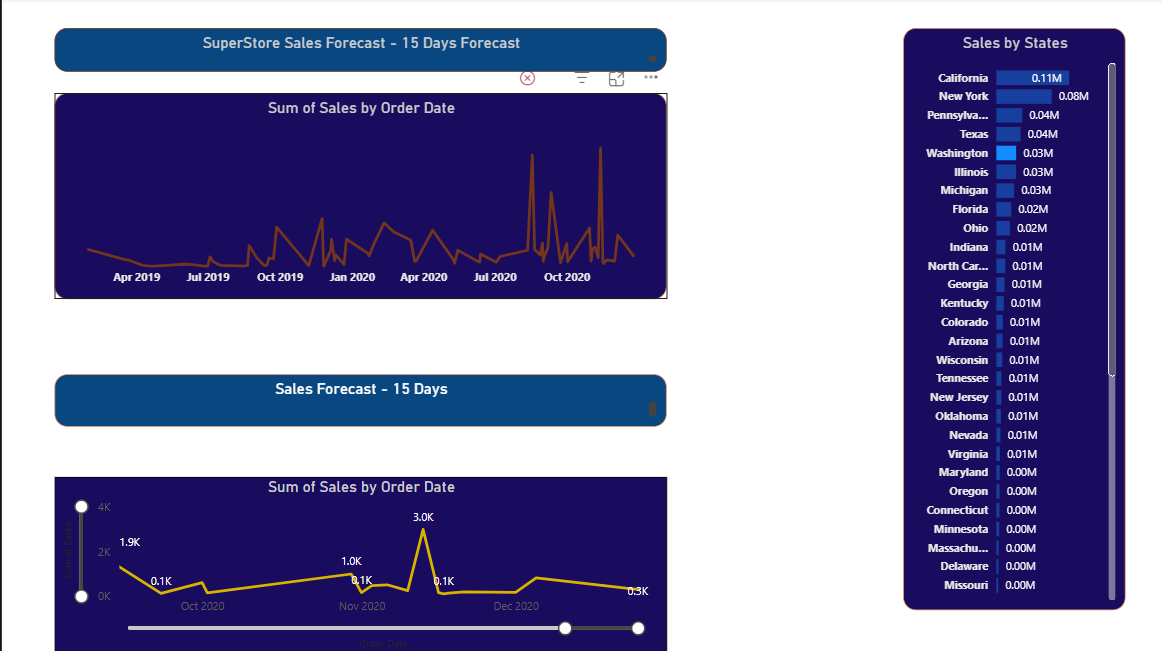

This screenshot's page, from the dashboard's own definition file:
{"tool":"powerbi","page":{"name":"Page 2","canvas":[1280,720],"ordinal":1},"visuals":[{"type":"lineChart","fields":{"Y":["Sum(SuperStore_Sales_Dataset.Sales)"],"Category":["SuperStore_Sales_Dataset.Order Date"]},"box":[57.6,104.3,672.4,226.4],"z":0},{"type":"lineChart","fields":{"Y":["Sum(SuperStore_Sales_Dataset.Sales)"],"Category":["SuperStore_Sales_Dataset.Order Date"]},"box":[57.6,525.6,672.4,194.9],"z":1000},{"type":"clusteredBarChart","title":"Sales by States","fields":{"Y":["Sum(SuperStore_Sales_Dataset.Sales)"],"Category":["SuperStore_Sales_Dataset.State"]},"box":[989.4,32.9,244.3,639.5],"z":2000},{"type":"textbox","title":"SuperStore Sales Forecast - 15 Days Forecast","box":[57.6,32.9,672.4,48],"z":3000},{"type":"textbox","title":"Sales Forecast - 15 Days","box":[57.6,413,672.4,57.6],"z":4000}]}

Visuals, with their boxes in screenshot pixels (x1, y1, x2, y2), scaled from the page's 1280x720 canvas onto the 1162x651 screenshot:
lineChart - Sum(SuperStore_Sales_Dataset.Sales) x SuperStore_Sales_Dataset.Order Date: rect(52, 94, 663, 299)
lineChart - Sum(SuperStore_Sales_Dataset.Sales) x SuperStore_Sales_Dataset.Order Date: rect(52, 475, 663, 650)
"Sales by States" clusteredBarChart: rect(898, 30, 1120, 608)
"SuperStore Sales Forecast - 15 Days Forecast" textbox: rect(52, 30, 663, 73)
"Sales Forecast - 15 Days" textbox: rect(52, 373, 663, 426)
